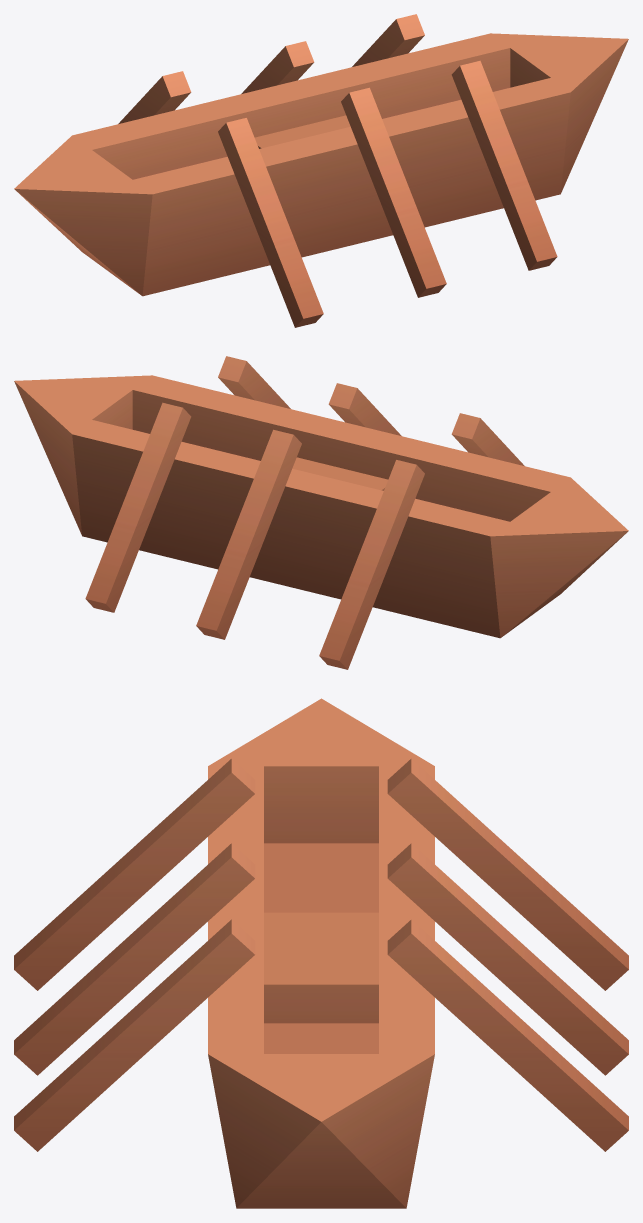
Rendered from kenney-hexagon-unit-ship.glb.
The picture shows the model from 3 angles, top to bottom: view 1: azimuth 30°, elevation 25°; view 2: azimuth 150°, elevation 25°; view 3: azimuth 270°, elevation 25°; orthographic projection. The views are drawn at different scales.
Visible parts, largest first — view 1: unit_ship; view 2: unit_ship; view 3: unit_ship.
Boxes of the visible parts, x1=… form: unit_ship: x1=14, y1=14, x2=628, y2=327; unit_ship: x1=14, y1=356, x2=628, y2=669; unit_ship: x1=14, y1=698, x2=628, y2=1208.
Bounding box in the file's own units: 0.645 × 0.1553 × 0.3959.
1 material, 1 textured.
